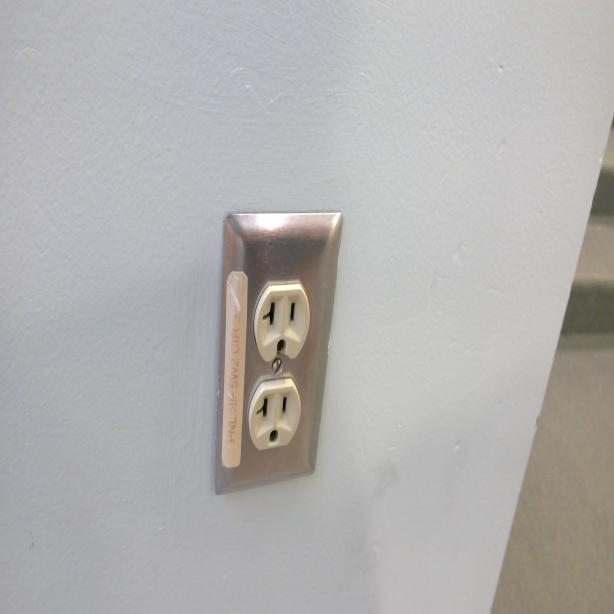typeb: (255, 281, 306, 360), (250, 383, 296, 451)
